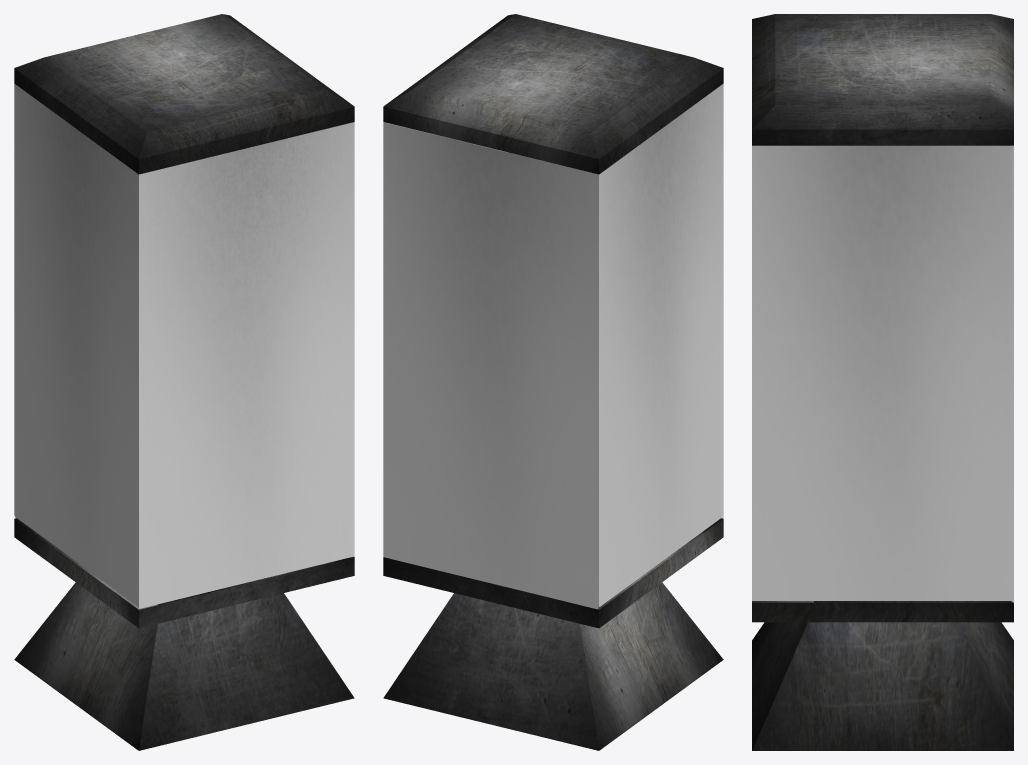
Rendered from lamp.obj.
The picture shows the model from 3 angles, left to right: view 1: azimuth 30°, elevation 25°; view 2: azimuth 150°, elevation 25°; view 3: azimuth 270°, elevation 25°; orthographic projection. The views are drawn at different scales.
Parts seen in each view (by area): view 1: Cube; view 2: Cube; view 3: Cube.
Part boxes in pixels (bbox=[...]): Cube: bbox=[14, 14, 354, 750]; Cube: bbox=[383, 14, 723, 750]; Cube: bbox=[752, 14, 1013, 750].
Bounding box in the file's own units: 1.68 × 4.52 × 1.68.
Materials: 1 (1 with a texture image).
